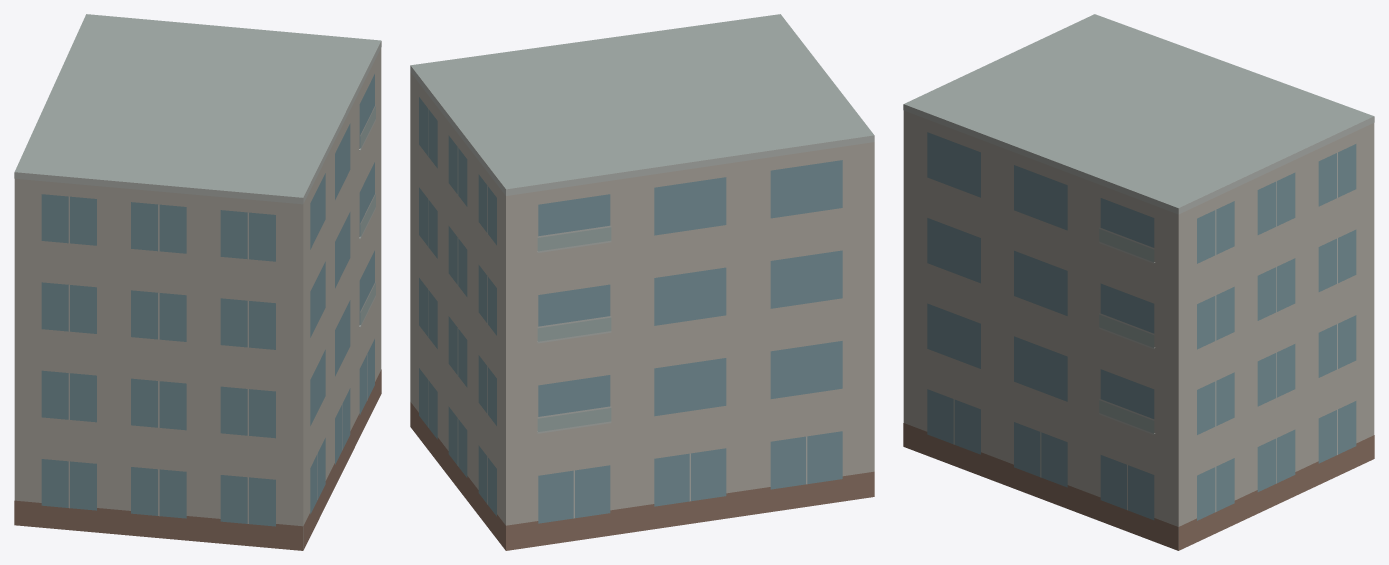
The model's file is survey-upis-32886934.glb.
3 renders of one model, left to right at view 1: azimuth 30°, elevation 25°; view 2: azimuth 150°, elevation 25°; view 3: azimuth 270°, elevation 25°, orthographic. The views are drawn at different scales.
Visible parts, largest first — view 1: survey-upis-32886934.tmp; view 2: survey-upis-32886934.tmp; view 3: survey-upis-32886934.tmp.
Part boxes in pixels (bbox=[...]): survey-upis-32886934.tmp: bbox=[14, 14, 381, 550]; survey-upis-32886934.tmp: bbox=[410, 14, 874, 550]; survey-upis-32886934.tmp: bbox=[903, 14, 1374, 550].
Size of the model in its own units: 16.06 by 13.2 by 16.45.
